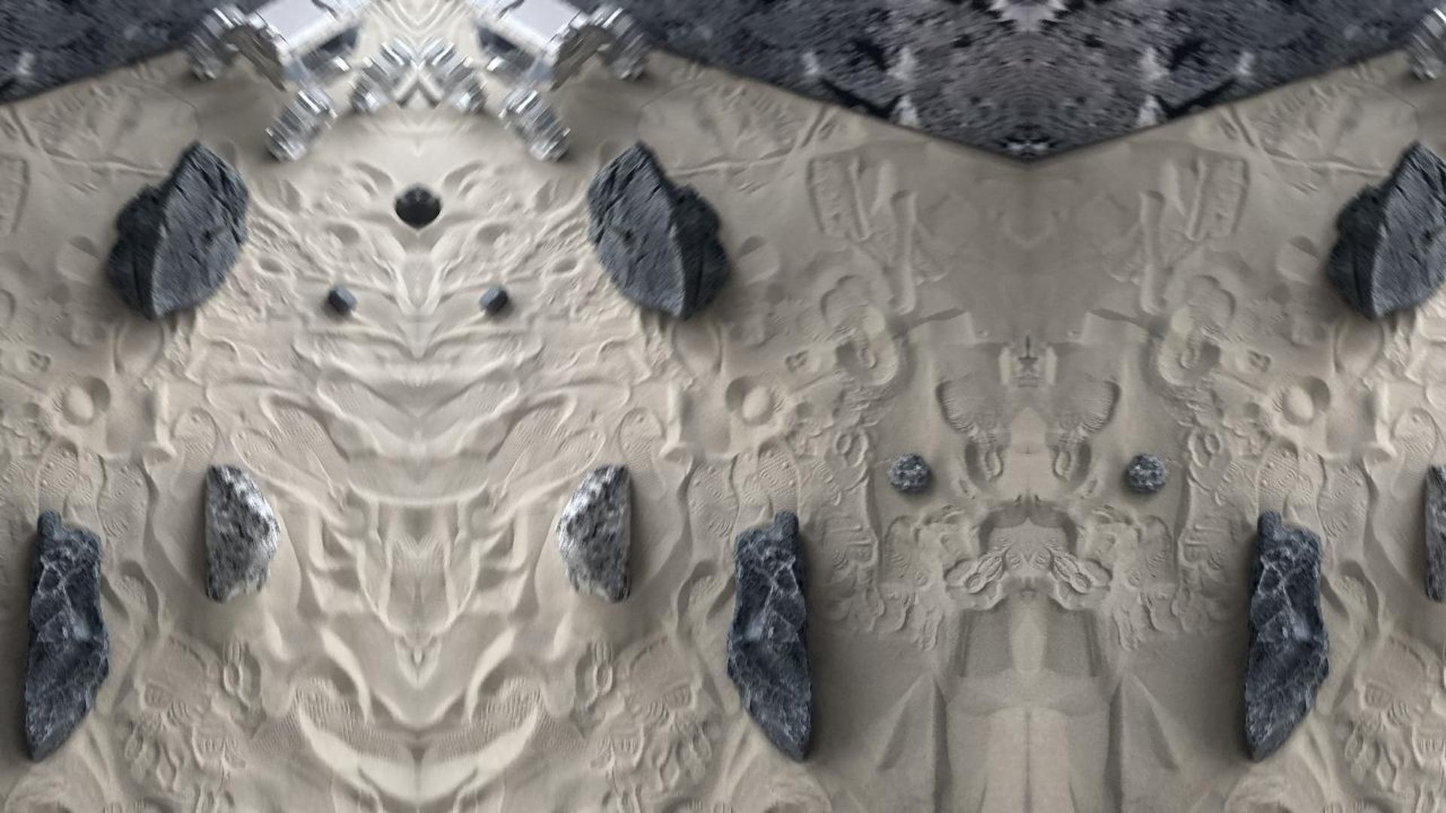rock: (587, 141, 729, 318), (107, 142, 247, 318), (1244, 512, 1329, 760), (1327, 142, 1445, 318), (24, 510, 107, 760), (728, 510, 810, 759), (204, 464, 278, 602), (556, 464, 630, 601), (1425, 465, 1445, 602), (888, 453, 931, 492), (1124, 454, 1167, 492), (394, 186, 419, 227), (325, 285, 357, 316), (479, 286, 508, 315), (419, 190, 441, 227)
